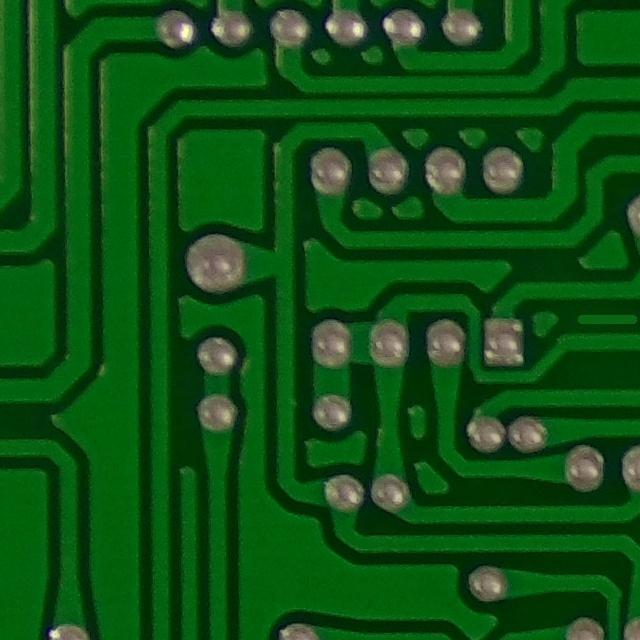spurious_copper: (566, 299, 640, 341)
